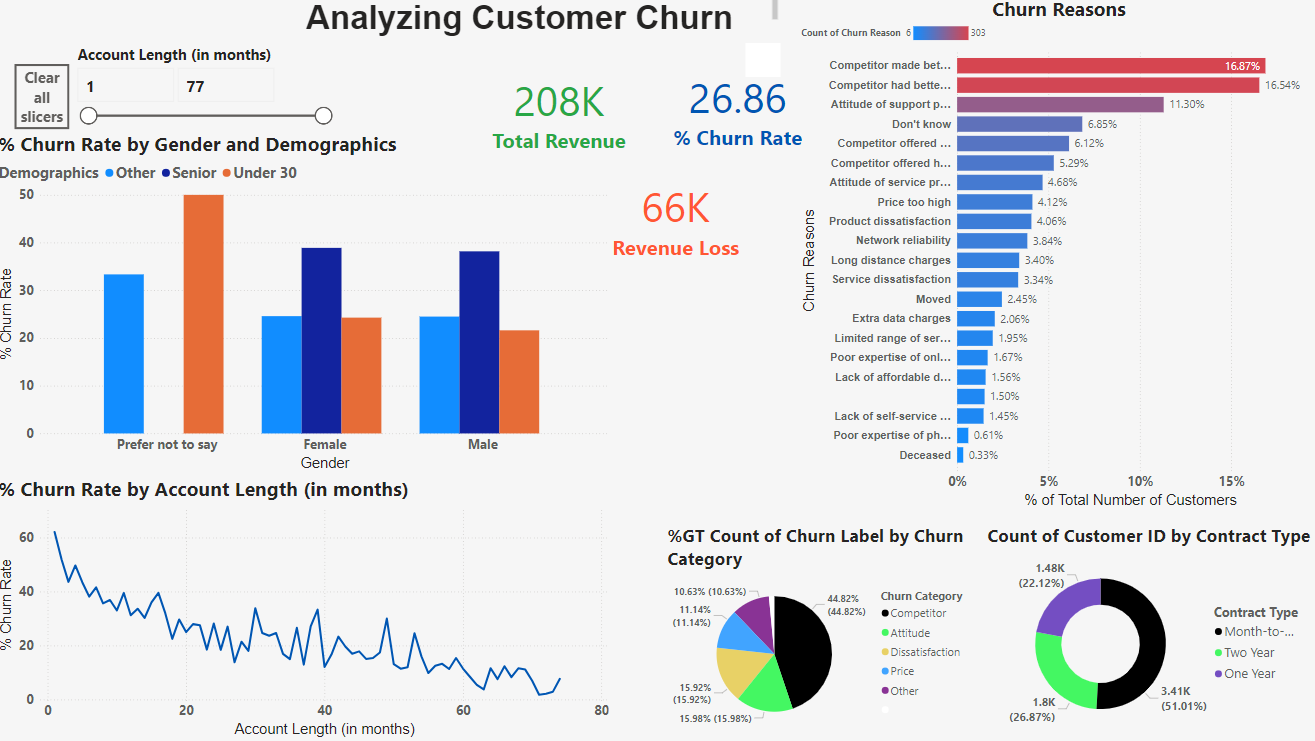

The page's visual inventory and layout, read from the dashboard file:
{"tool":"powerbi","page":{"name":"Churn Analysis","canvas":[1920,1080],"ordinal":0},"visuals":[{"type":"card","fields":{"Values":["#Measures.Total Revenue"]},"box":[698.2,104.4,238.5,126.7],"z":0},{"type":"card","fields":{"Values":["#Measures.% Churn Rate"]},"box":[954.1,99.4,243.5,126.7],"z":1000},{"type":"card","fields":{"Values":["#Measures.Revenue Loss"]},"box":[852.3,253.4,268.3,136.7],"z":2000},{"type":"lineChart","fields":{"Y":["#Measures.% Churn Rate"],"Category":["Databel - Data.Account Length (in months)"]},"box":[0,695.7,894.5,385.1],"z":3000},{"type":"clusteredColumnChart","fields":{"Category":["Databel - Data.Gender"],"Y":["#Measures.% Churn Rate"],"Series":["Databel - Data.Demographics"]},"box":[0,196.3,894.5,499.4],"z":4000},{"type":"clusteredBarChart","title":"Churn Reasons","fields":{"Category":["Databel - Data.Churn Reason"],"Y":["CountNonNull(Databel - Data.Number of Customers in Group)"]},"box":[1162.8,0,757.8,747.9],"z":5000},{"type":"donutChart","fields":{"Y":["Count(Databel - Data.Customer ID)"],"Category":["Databel - Data.Contract Type"]},"box":[1433.7,765.3,479.6,315.6],"z":6000},{"type":"slicer","fields":{"Values":["Databel - Data.Account Length (in months)"]},"box":[106.8,64.6,390.1,196.3],"z":7000},{"type":"textbox","box":[390.1,0,750.4,67.1],"z":8000},{"type":"pieChart","fields":{"Category":["Databel - Data.Churn Category"],"Y":["CountNonNull(Databel - Data.Churn Label)"]},"box":[969.1,765,454.1,310.9],"z":9000},{"type":"actionButton","box":[27.3,99.4,79.5,94.4],"z":11000}]}

Visuals, with their boxes in screenshot pixels (x1, y1, x2, y2), scaled from the page's 1920x1080 canvas onto the 1315x741 screenshot:
card - #Measures.Total Revenue: detection(478, 72, 642, 159)
card - #Measures.% Churn Rate: detection(653, 68, 820, 155)
card - #Measures.Revenue Loss: detection(584, 174, 767, 268)
lineChart - #Measures.% Churn Rate x Databel - Data.Account Length (in months): detection(0, 477, 613, 740)
clusteredColumnChart - Databel - Data.Gender x #Measures.% Churn Rate: detection(0, 135, 613, 477)
"Churn Reasons" clusteredBarChart: detection(796, 0, 1314, 513)
donutChart - Count(Databel - Data.Customer ID) x Databel - Data.Contract Type: detection(982, 525, 1310, 740)
slicer - Databel - Data.Account Length (in months): detection(73, 44, 340, 179)
textbox: detection(267, 0, 781, 46)
pieChart - Databel - Data.Churn Category x CountNonNull(Databel - Data.Churn Label): detection(664, 525, 975, 738)
actionButton: detection(19, 68, 73, 133)
